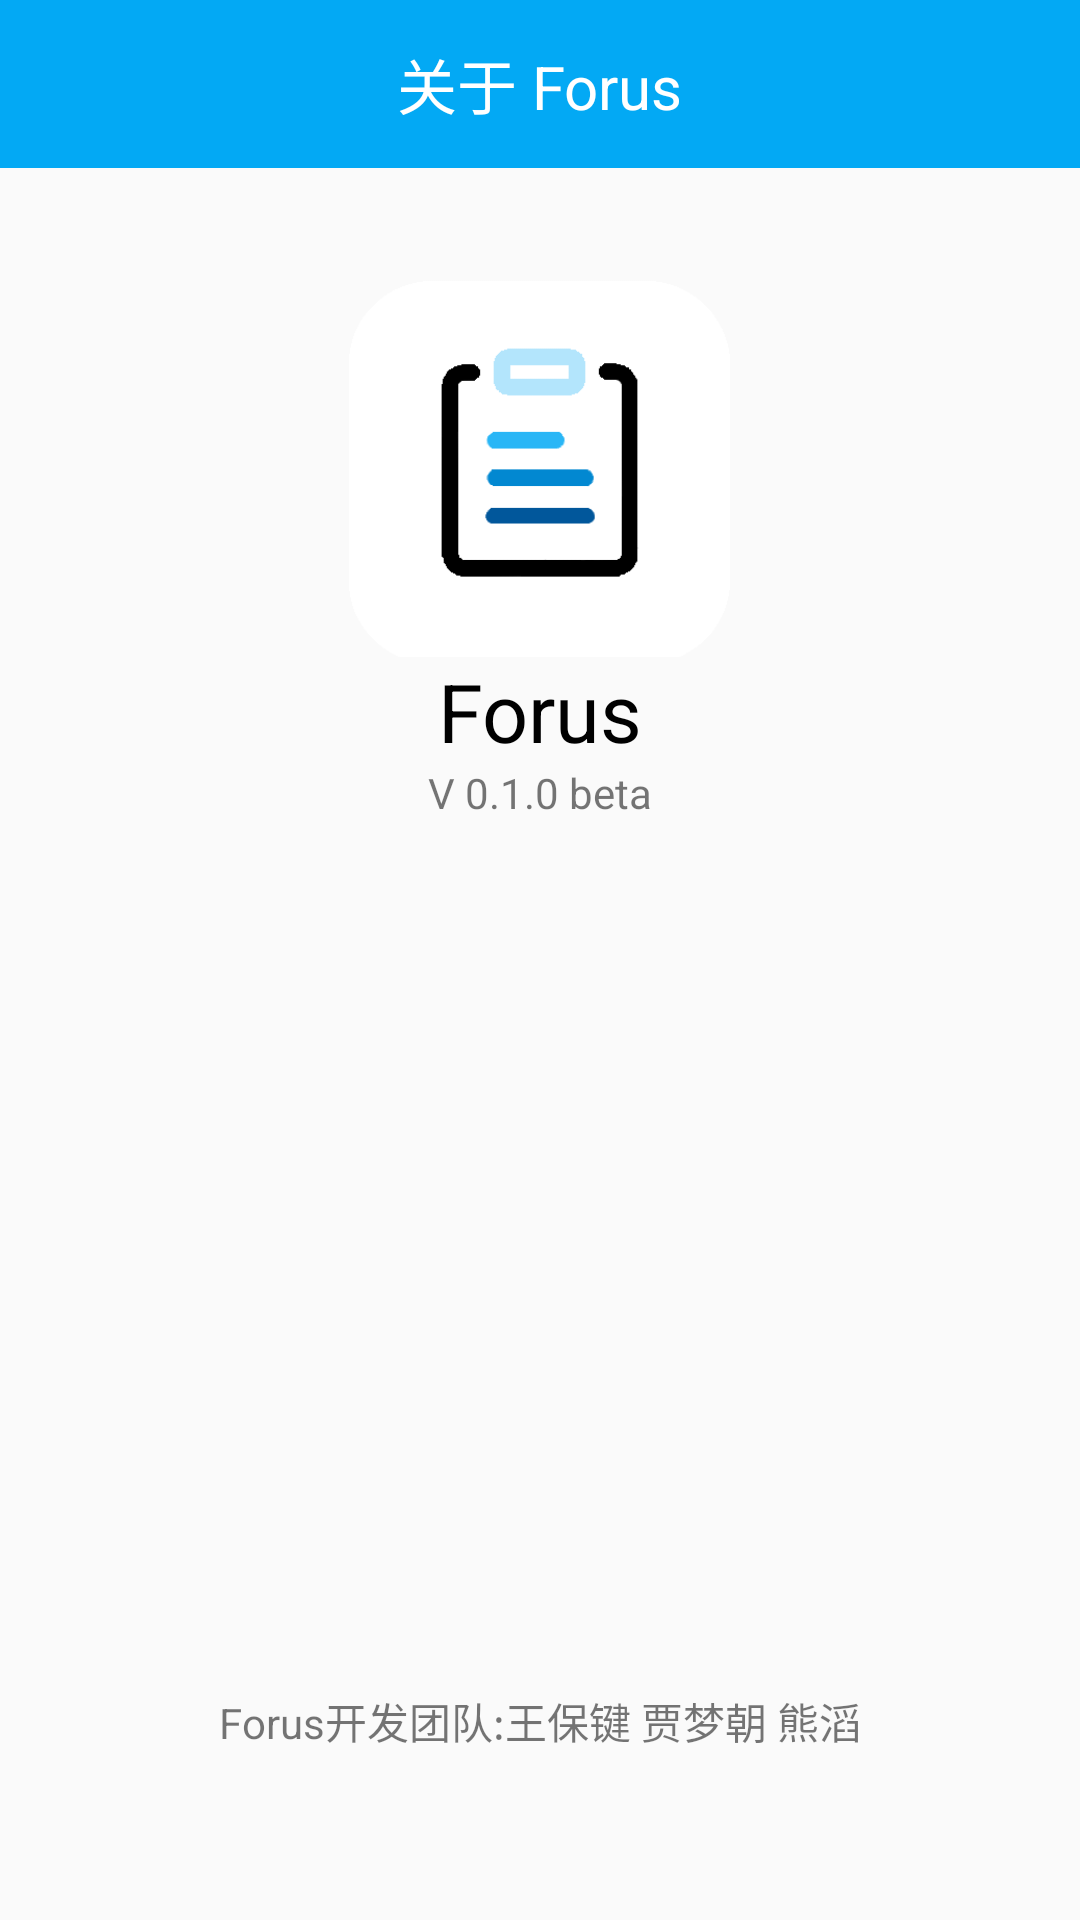

Locate icon controls on the screen. Image size 1080 × 1920, boxes as (x1, y1, x2, y2).
appinfo: (441, 348, 638, 577)
